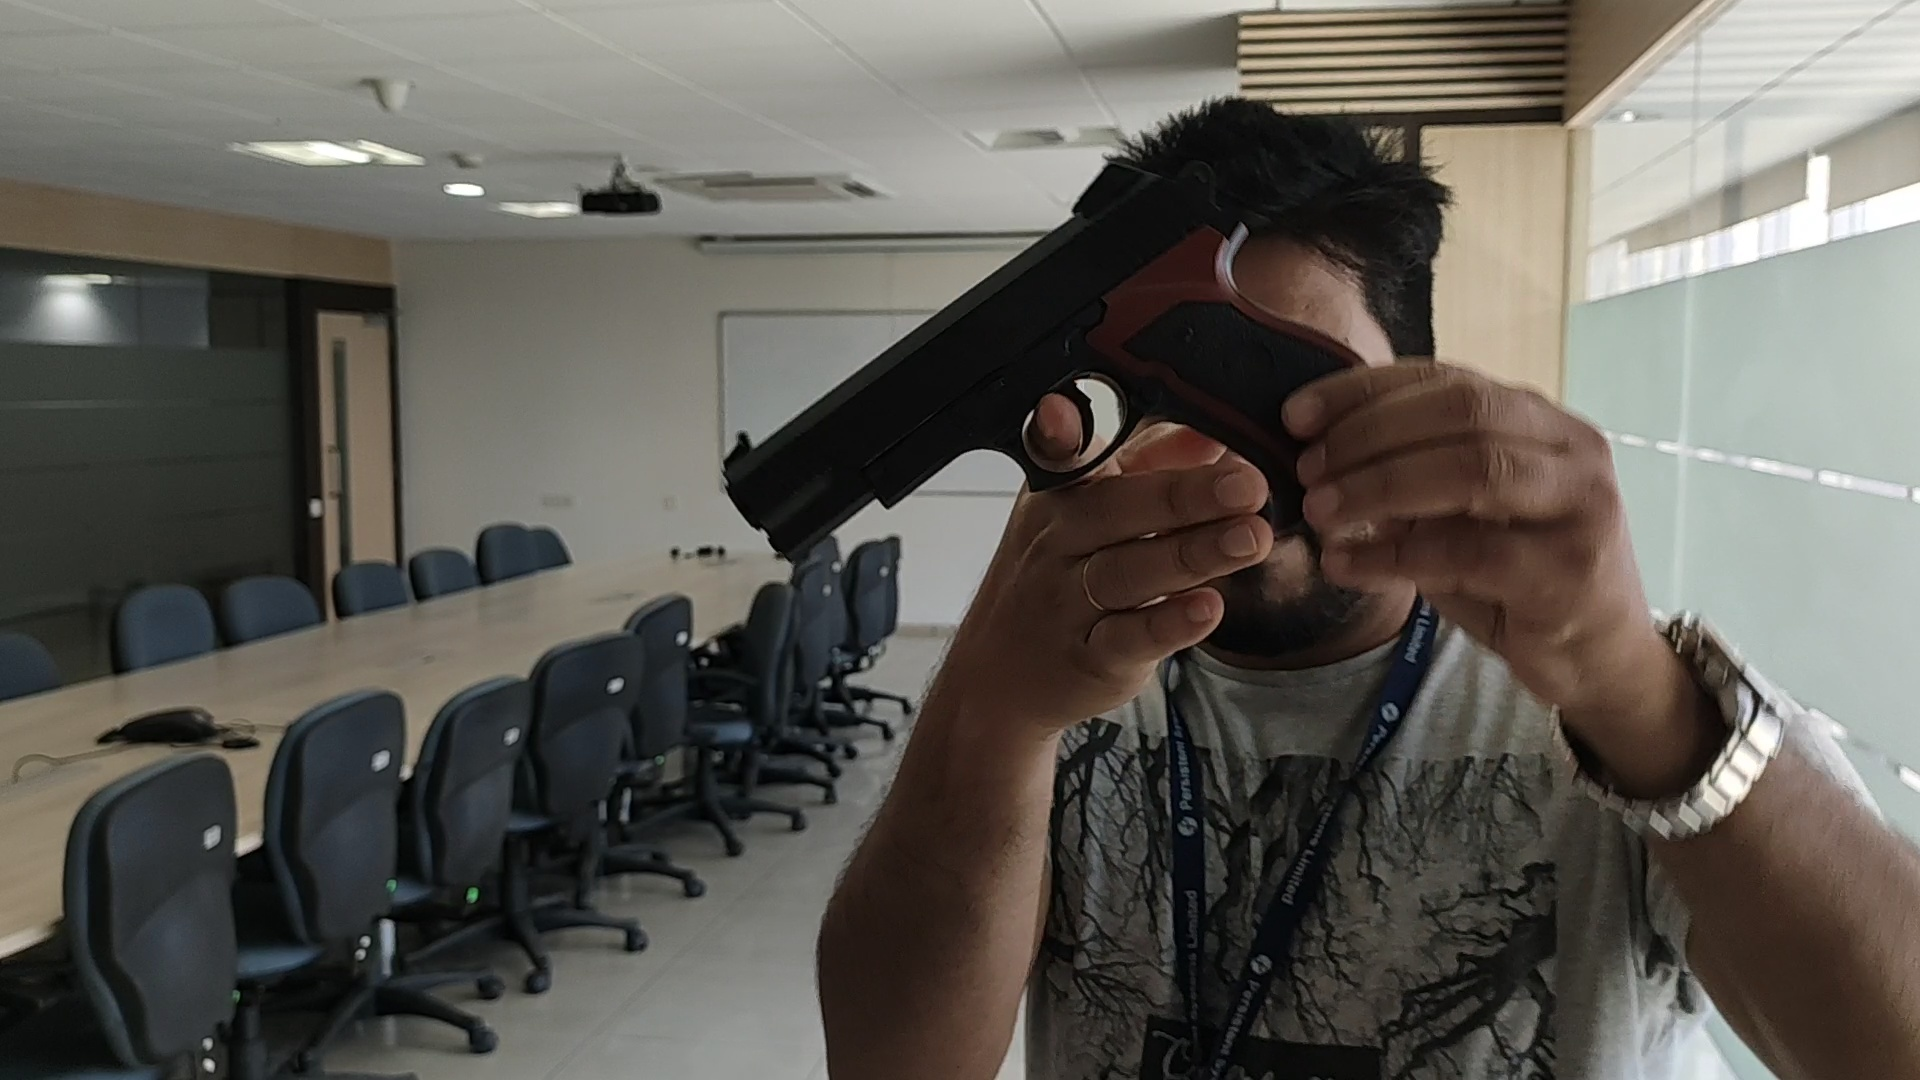gun: (729, 208, 1288, 498)
